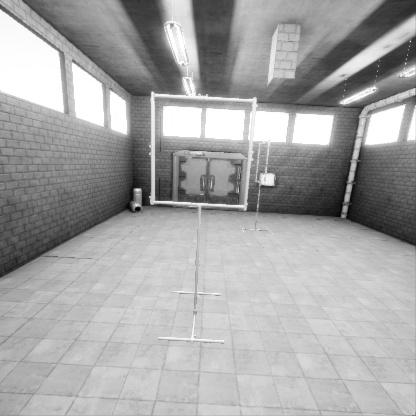gate: (157, 212, 264, 323), (256, 232, 270, 278)
